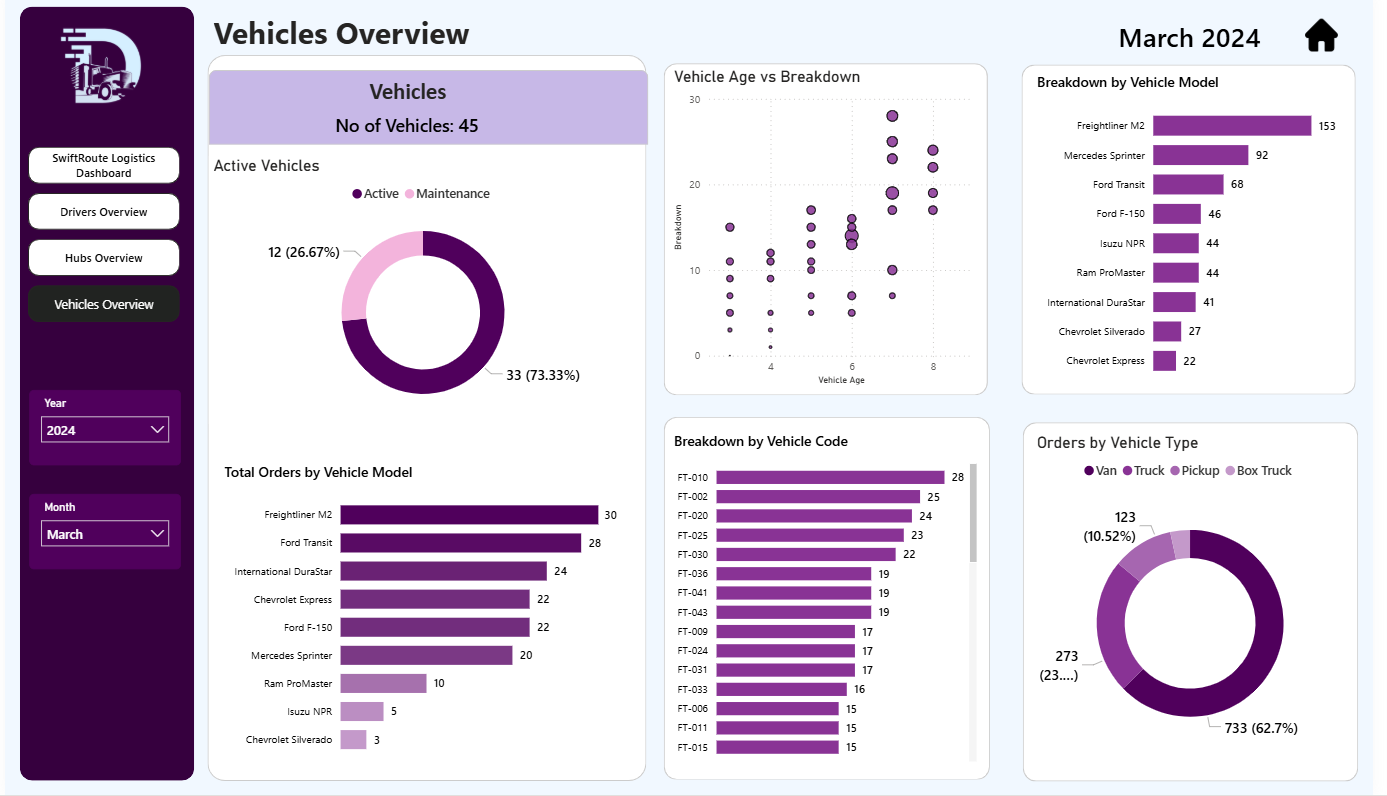

This screenshot's page, from the dashboard's own definition file:
{"tool":"powerbi","page":{"name":"Vehicles Overview","canvas":[1450,850],"ordinal":3},"visuals":[{"type":"shape","box":[15.9,14.1,184.9,820.7],"z":0},{"type":"textbox","box":[215.7,13.8,567.6,60.4],"z":1000},{"type":"slicer","fields":{"Values":["Date Table.Year"]},"box":[25.1,420.1,160.7,80],"z":2000},{"type":"slicer","fields":{"Values":["Date Table.Month"]},"box":[25.1,530.8,160.7,80],"z":3000},{"type":"image","box":[29.3,29.3,148.4,103.5],"z":4000},{"type":"cardVisual","fields":{"Data":["Orders.Year Month Title"]},"box":[1145.6,22.4,219.1,44.9],"z":5000},{"type":"shape","box":[697.8,73.9,343.5,352.2],"z":6000},{"type":"image","box":[1378.5,27.6,34.5,34.5],"z":7000},{"type":"shape","box":[215.2,65.2,465.2,769.6],"z":8000},{"type":"shape","box":[215.7,81.1,465.8,79.4],"z":9000},{"type":"cardVisual","fields":{"Data":["Vehicles.Number of Vehicles"]},"box":[330.7,123.1,191.5,31.1],"z":10000},{"type":"textbox","box":[368.6,85.1,115.6,41.4],"z":11000},{"type":"donutChart","title":"Active Vehicles","fields":{"Category":["Vehicles.Vehicle Status"],"Y":["CountNonNull(Vehicles.Vehicle ID)"]},"box":[215.7,172.5,453.8,283],"z":12000},{"type":"barChart","fields":{"Category":["Vehicles.Vehicle Model"],"Y":["Orders.Total Orders"]},"box":[227.7,498.6,426.2,320.9],"z":13000},{"type":"scatterChart","title":"Vehicle Age vs Breakdown","fields":{"X":["Vehicles.Vehicle Age"],"Y":["Vehicles.Breakdown"],"Size":["Sum(Vehicles.Breakdown)1"]},"box":[704.3,78.3,330.4,341.3],"z":14000},{"type":"shape","box":[1078.3,76.1,354.3,350],"z":15000},{"type":"shape","box":[697.8,450,345.7,384.8],"z":16000},{"type":"barChart","title":"Breakdown by Vehicle Code","fields":{"Category":["Vehicles.Vehicle Code"],"Y":["Sum(Vehicles.Breakdown)"]},"box":[704,465.3,330.7,354.7],"z":17000},{"type":"barChart","title":"Breakdown by Vehicle Model","fields":{"Y":["Sum(Vehicles.Breakdown)"],"Category":["Vehicles.Vehicle Model"]},"box":[1089.4,85.1,329.8,334],"z":18000},{"type":"shape","box":[1078.7,455.3,355.3,380.9],"z":19000},{"type":"donutChart","title":"Orders by Vehicle Type","fields":{"Y":["Orders.Total Orders"],"Category":["Orders.Vehicle Type"]},"box":[1089.4,466,334,355.3],"z":20000},{"type":"pageNavigator","box":[25,163,161.1,188],"z":21000}]}

Visuals, with their boxes in screenshot pixels (x1, y1, x2, y2), scaled from the page's 1450x850 canvas onto the 1387x796 screenshot:
shape: <region>15, 13, 192, 782</region>
textbox: <region>206, 13, 749, 69</region>
slicer - Date Table.Year: <region>24, 393, 178, 468</region>
slicer - Date Table.Month: <region>24, 497, 178, 572</region>
image: <region>28, 27, 170, 124</region>
cardVisual - Orders.Year Month Title: <region>1096, 21, 1305, 63</region>
shape: <region>667, 69, 996, 399</region>
image: <region>1319, 26, 1352, 58</region>
shape: <region>206, 61, 651, 782</region>
shape: <region>206, 76, 652, 150</region>
cardVisual - Vehicles.Number of Vehicles: <region>316, 115, 500, 144</region>
textbox: <region>353, 80, 463, 118</region>
"Active Vehicles" donutChart: <region>206, 162, 640, 427</region>
barChart - Vehicles.Vehicle Model x Orders.Total Orders: <region>218, 467, 625, 767</region>
"Vehicle Age vs Breakdown" scatterChart: <region>674, 73, 990, 393</region>
shape: <region>1031, 71, 1370, 399</region>
shape: <region>667, 421, 998, 782</region>
"Breakdown by Vehicle Code" barChart: <region>673, 436, 990, 768</region>
"Breakdown by Vehicle Model" barChart: <region>1042, 80, 1358, 392</region>
shape: <region>1032, 426, 1372, 783</region>
"Orders by Vehicle Type" donutChart: <region>1042, 436, 1362, 769</region>
pageNavigator: <region>24, 153, 178, 329</region>
